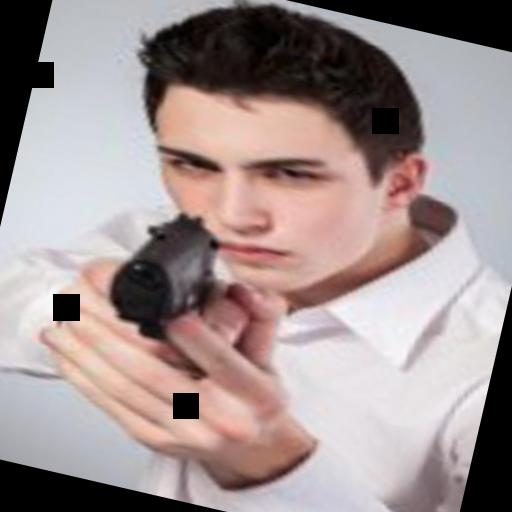Handgun: (88, 187, 234, 366)
